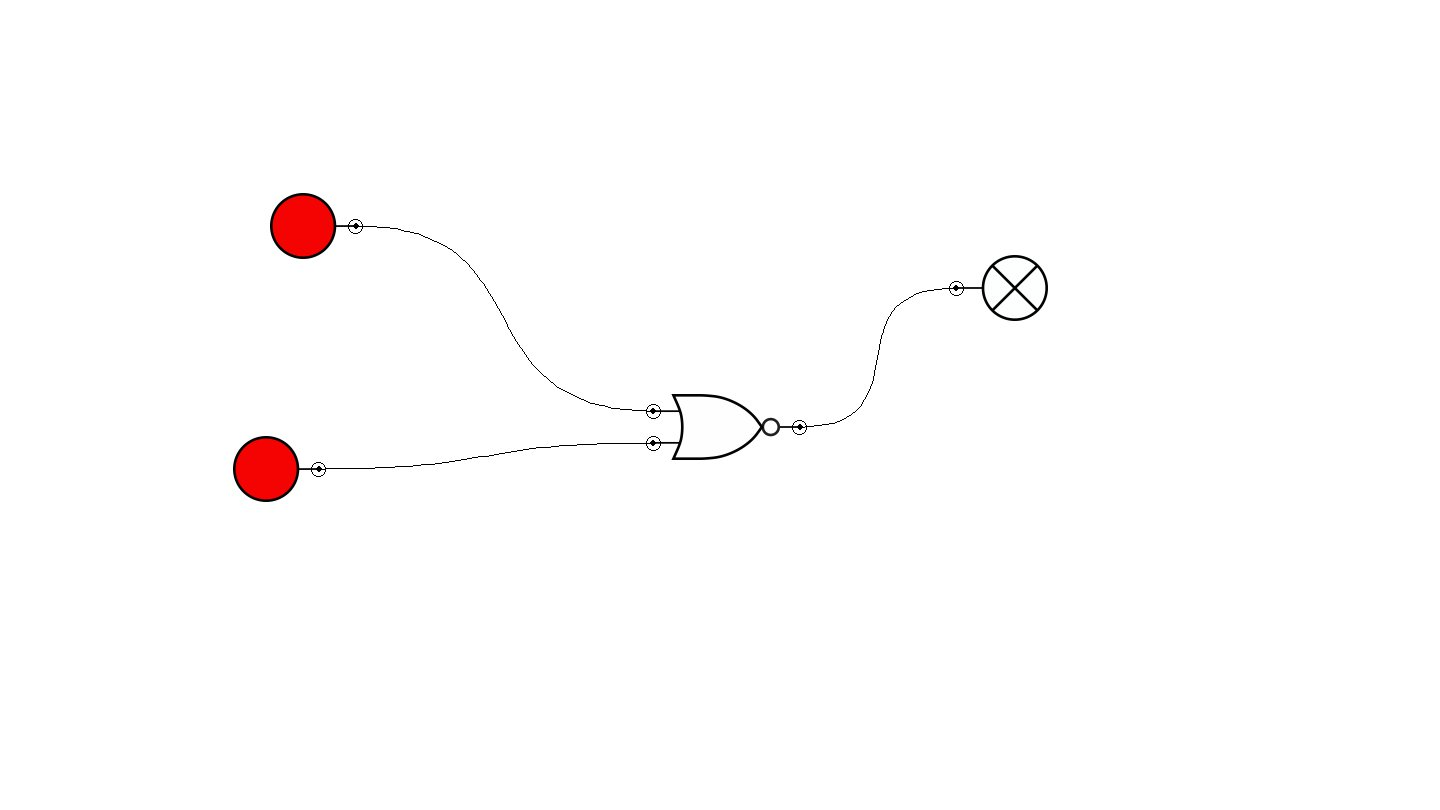bulb: (949, 255, 1048, 321)
nor: (646, 394, 807, 460)
switch_False: (270, 193, 363, 259), (233, 436, 326, 502)
